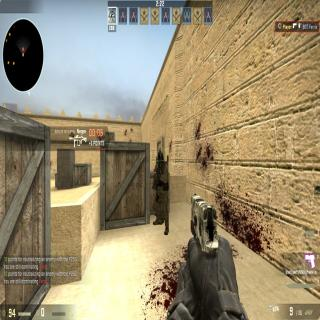CT-Body: (151, 143, 171, 234)
CT-Head: (157, 147, 165, 167)
